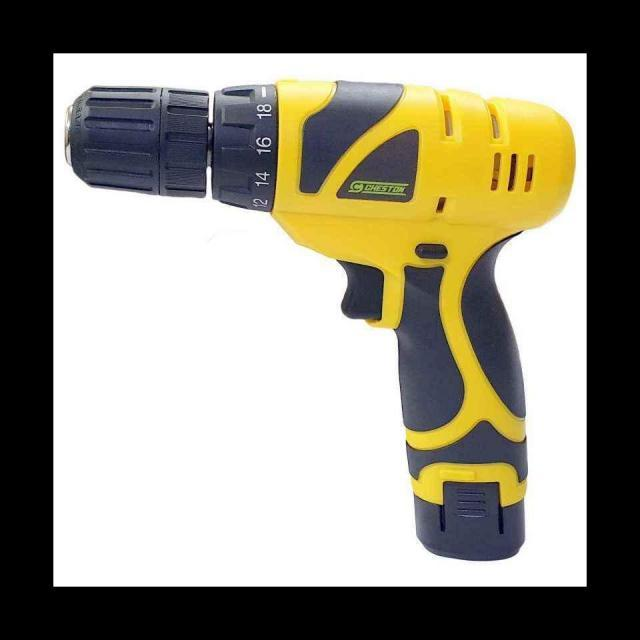drill: (64, 78, 577, 563)
